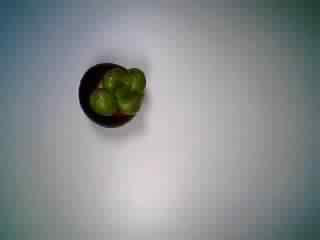mangosteen: (74, 54, 152, 129)
